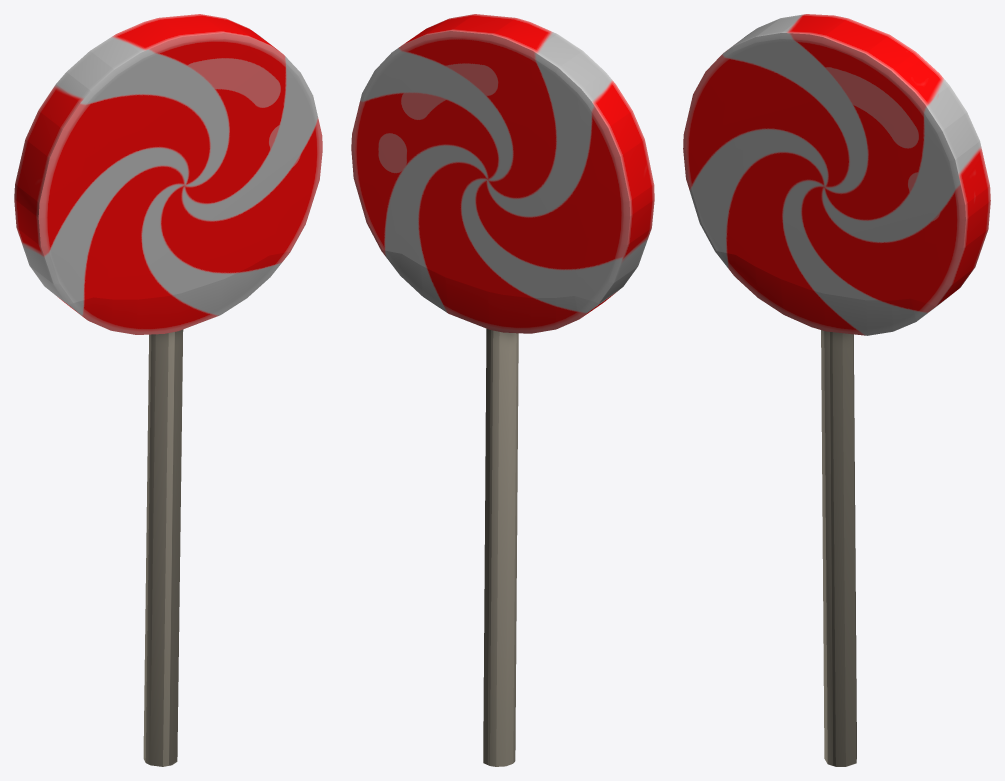
Rendered from lollipop01.obj.
3 renders of one model, left to right at view 1: azimuth 30°, elevation 25°; view 2: azimuth 150°, elevation 25°; view 3: azimuth 330°, elevation 25°, orthographic.
Visible parts, largest first — view 1: Mesh; view 2: Mesh; view 3: Mesh.
Boxes of the visible parts, <box> form: Mesh: <box>14,14,322,766</box>; Mesh: <box>351,14,654,766</box>; Mesh: <box>683,14,990,766</box>.
Bounding box in the file's own units: 3.28 × 8.16 × 0.6201.
Materials: 1 (1 with a texture image).
